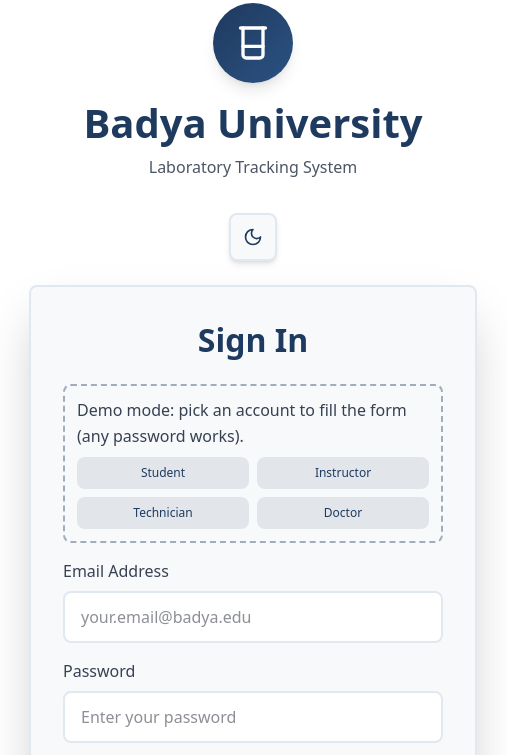
Test: <Login /> (demo mode) › shows an error for an unknown account and does not log in
The image size is (507, 755).
In the field labelled "Email Address": x=253, y=617 [63,591,443,643], type "nobody@example.com"
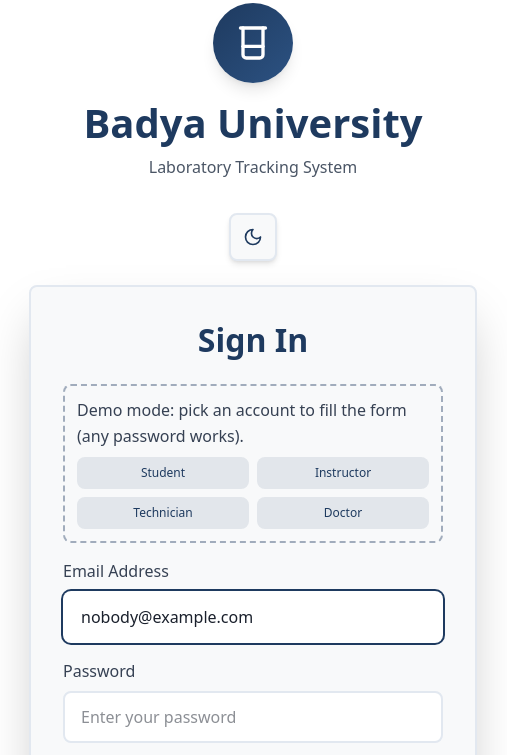
In the password field labelled "Password": x=253, y=717 [63,691,443,743], type "secret"
(page scrolled)
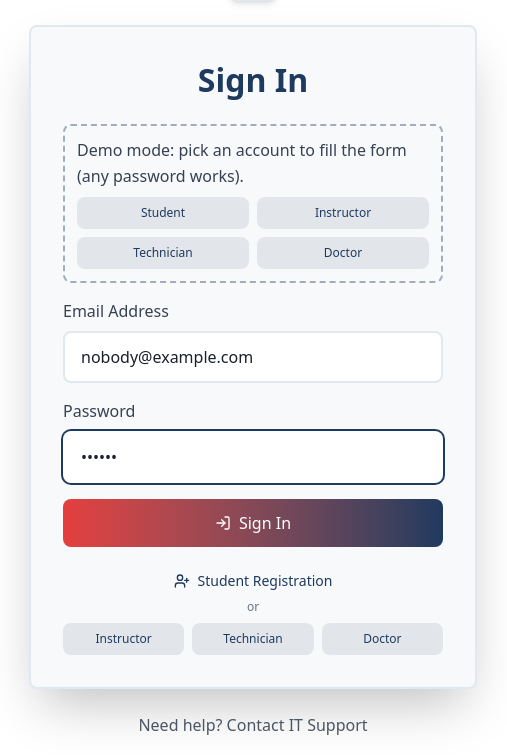
Click the button "Sign In": x=253, y=523 [63,499,443,547]
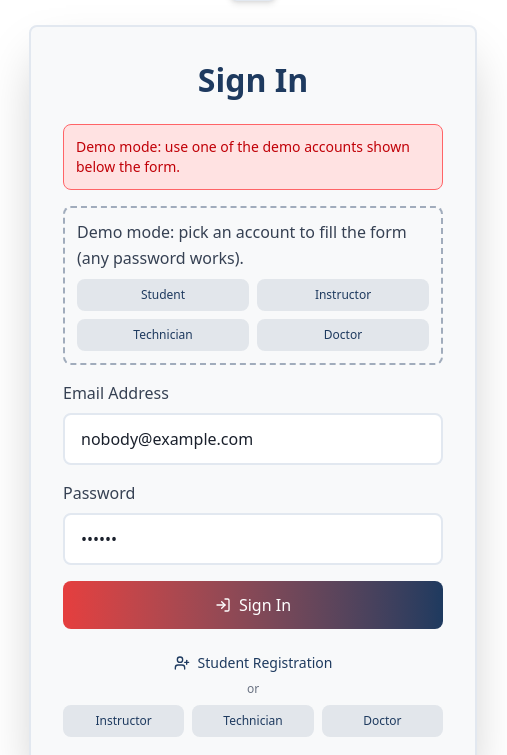
Check: the text "demo accounts" is shown, box [76,137,410,176]
